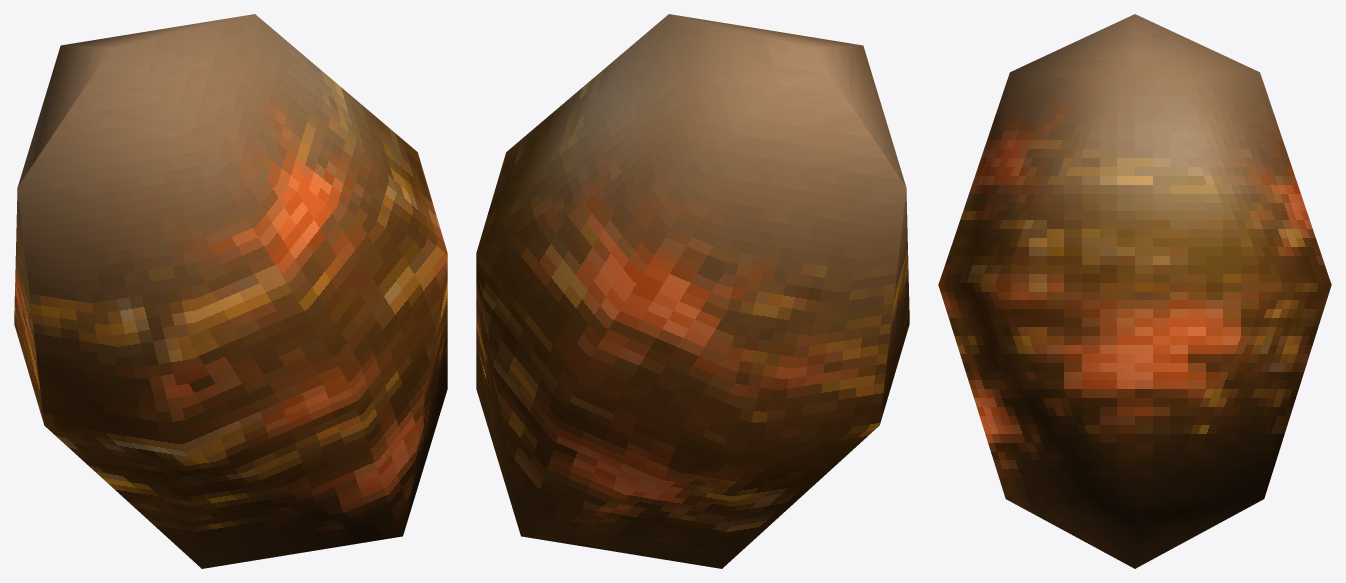
Rendered from BrownBean.fbx.
The picture shows the model from 3 angles, left to right: view 1: azimuth 30°, elevation 25°; view 2: azimuth 150°, elevation 25°; view 3: azimuth 270°, elevation 25°; orthographic projection. The views are drawn at different scales.
Parts seen in each view (by area): view 1: material_0; view 2: material_0; view 3: material_0.
Part boxes in pixels (box(x1,y1,x2,y2)): material_0: box(14, 14, 447, 568); material_0: box(476, 14, 909, 568); material_0: box(938, 14, 1331, 568).
Size of the model in its own units: 979 by 1200 by 938.
